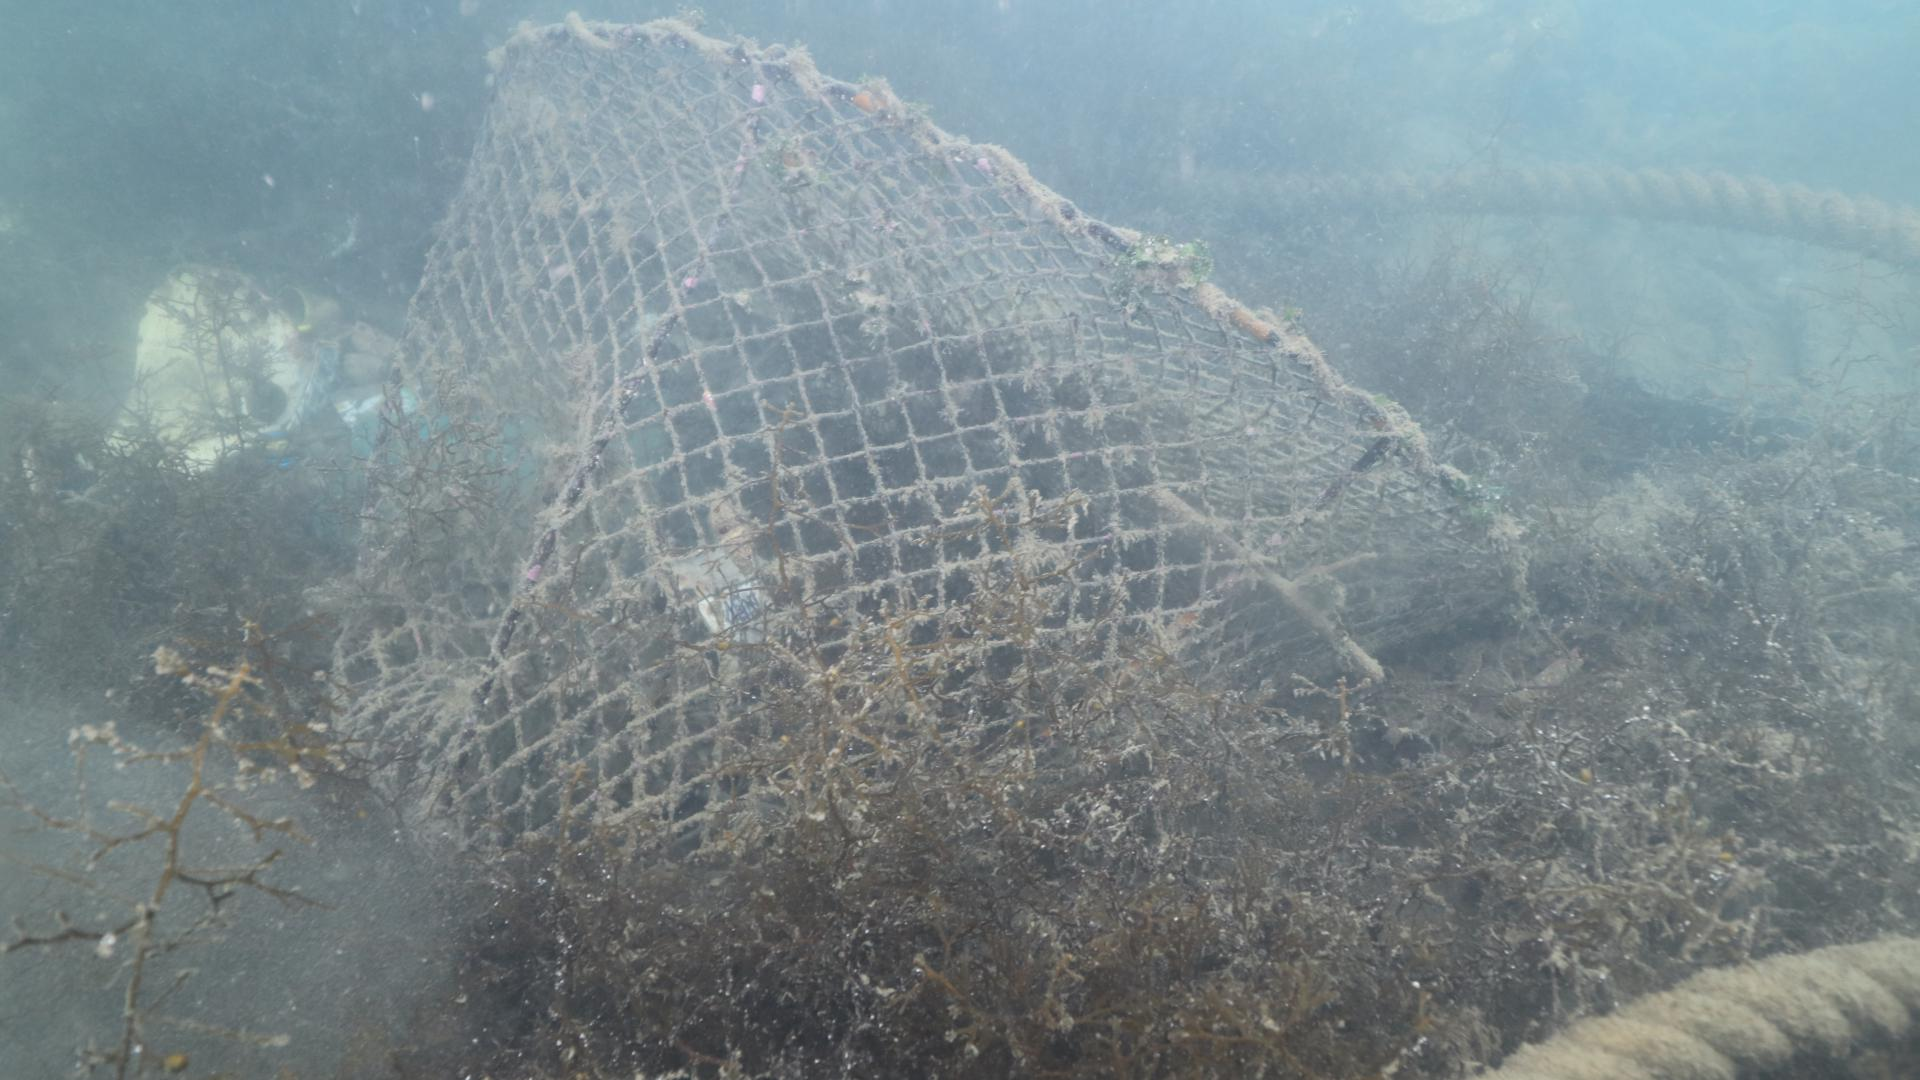circular fish trap: (324, 15, 1528, 890)
rope: (1215, 161, 1920, 273), (1476, 928, 1920, 1080)
